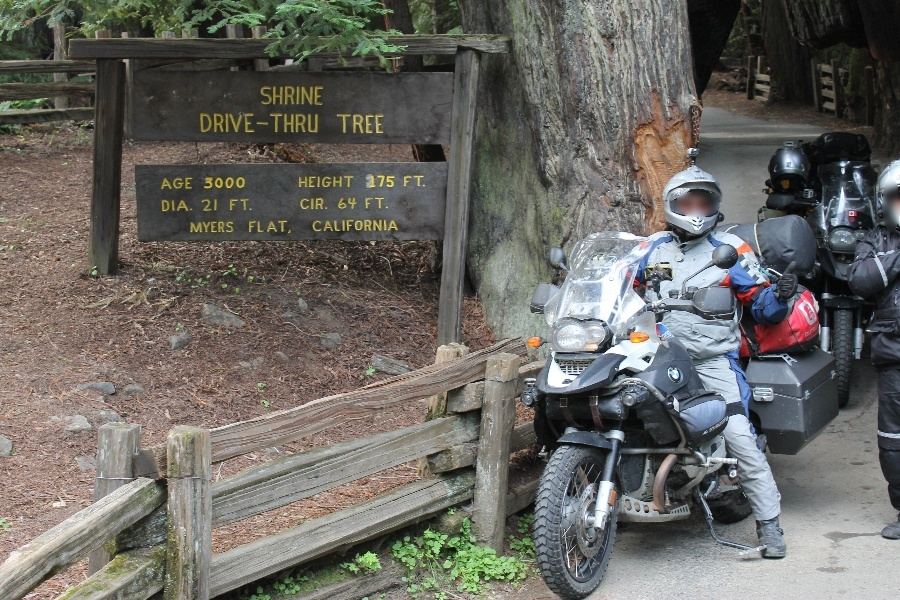text: (369, 114, 385, 134), (209, 113, 224, 134), (225, 113, 240, 134), (241, 113, 256, 134), (257, 113, 272, 134), (273, 113, 288, 134), (289, 113, 304, 134), (337, 114, 352, 134), (353, 114, 368, 134), (273, 86, 288, 106), (289, 86, 304, 106), (305, 86, 320, 106), (305, 113, 319, 134), (369, 174, 384, 189), (261, 86, 272, 106), (708, 416, 720, 434), (305, 197, 320, 211), (257, 220, 272, 234), (273, 220, 288, 234), (177, 177, 192, 190), (305, 175, 320, 188), (321, 175, 336, 188), (337, 175, 352, 188), (193, 221, 208, 234), (209, 221, 224, 234), (321, 219, 336, 232), (337, 219, 352, 232), (353, 219, 368, 232), (369, 219, 384, 232), (199, 113, 208, 134), (241, 198, 254, 212), (385, 219, 399, 232), (209, 177, 224, 189), (225, 177, 240, 189), (385, 174, 397, 189), (177, 200, 192, 212), (369, 197, 384, 209), (163, 177, 176, 190), (403, 175, 416, 188), (339, 197, 352, 210), (162, 200, 176, 212), (805, 324, 816, 339), (225, 221, 236, 234), (230, 198, 240, 212), (209, 199, 219, 212), (721, 416, 728, 434), (661, 329, 672, 340), (417, 175, 426, 188), (321, 197, 329, 211), (201, 199, 208, 212), (313, 219, 320, 232), (250, 220, 256, 234), (673, 363, 679, 376), (299, 175, 304, 188), (667, 363, 672, 376), (241, 177, 246, 189), (321, 86, 324, 106), (353, 197, 357, 210), (364, 197, 368, 209), (385, 197, 389, 209), (301, 197, 304, 211), (289, 220, 292, 234), (693, 177, 704, 180), (817, 324, 819, 339), (353, 175, 355, 188), (190, 221, 192, 234), (206, 177, 208, 189), (705, 177, 710, 180), (193, 177, 194, 190), (193, 200, 194, 212)
